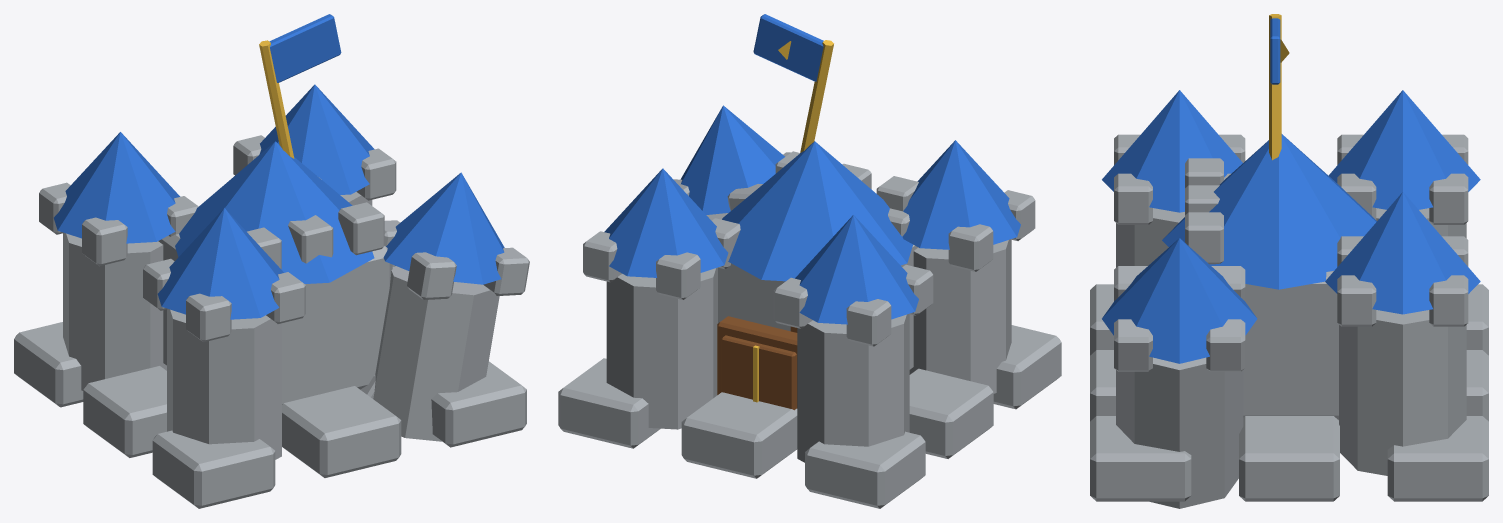
File: castle_damaged.glb
3 renders of one model, left to right at view 1: azimuth 30°, elevation 25°; view 2: azimuth 150°, elevation 25°; view 3: azimuth 270°, elevation 25°, orthographic. The views are drawn at different scales.
Parts seen in each view (by area): view 1: Tower stone.003, Tower stone.002, Keep body, Tower stone, Keep blue roof, Stone block.005, Blue roof, Blue roof.002, Blue roof.003, Stone block.002, Blue roof.001, Stone block.001 (+17 smaller); view 2: Tower stone.001, Keep blue roof, Tower stone, Tower stone.002, Blue roof, Blue roof.001, Stone block.003, Blue roof.002, Stone block, Blue roof.003, Stone block.001, Stone block.006 (+15 smaller); view 3: Tower stone.001, Keep blue roof, Tower stone.003, Keep body, Blue roof.003, Blue roof.001, Stone block.007, Blue roof, Blue roof.002, Stone block.006, Stone block.008, Tower stone.002 (+19 smaller).
Part boxes in pixels (x1,y1,x2,y2): Tower stone.003: [373, 266, 499, 441]; Tower stone.002: [167, 309, 281, 459]; Keep body: [158, 234, 392, 404]; Tower stone: [63, 233, 166, 390]; Keep blue roof: [175, 141, 374, 283]; Stone block.005: [282, 386, 401, 477]; Blue roof: [54, 132, 180, 243]; Blue roof.002: [157, 208, 283, 319]; Blue roof.003: [383, 172, 504, 284]; Stone block.002: [152, 430, 275, 508]; Blue roof.001: [259, 84, 374, 194]; Stone block.001: [83, 366, 166, 457]; Tower stone.001: [606, 267, 717, 429]; Keep blue roof: [722, 141, 912, 281]; Tower stone: [797, 314, 909, 462]; Tower stone.002: [909, 239, 1011, 393]; Blue roof: [795, 215, 918, 324]; Blue roof.001: [604, 168, 728, 277]; Stone block.003: [681, 392, 797, 478]; Blue roof.002: [902, 140, 1020, 249]; Stone block: [805, 431, 925, 508]; Blue roof.003: [680, 105, 784, 214]; Stone block.001: [909, 368, 993, 458]; Stone block.006: [558, 358, 660, 448]; Tower stone.001: [1339, 310, 1466, 475]; Keep blue roof: [1162, 134, 1376, 289]; Tower stone.003: [1116, 357, 1243, 508]; Keep body: [1243, 271, 1338, 419]; Blue roof.003: [1102, 238, 1257, 363]; Blue roof.001: [1325, 192, 1480, 314]; Stone block.007: [1239, 416, 1339, 501]; Blue roof: [1328, 90, 1480, 209]; Blue roof.002: [1102, 90, 1242, 212]; Stone block.006: [1387, 416, 1488, 501]; Stone block.008: [1090, 416, 1191, 501]; Tower stone.002: [1116, 208, 1184, 267].
Bounding box in the file's own units: 1.24 × 1.32 × 1.13.
